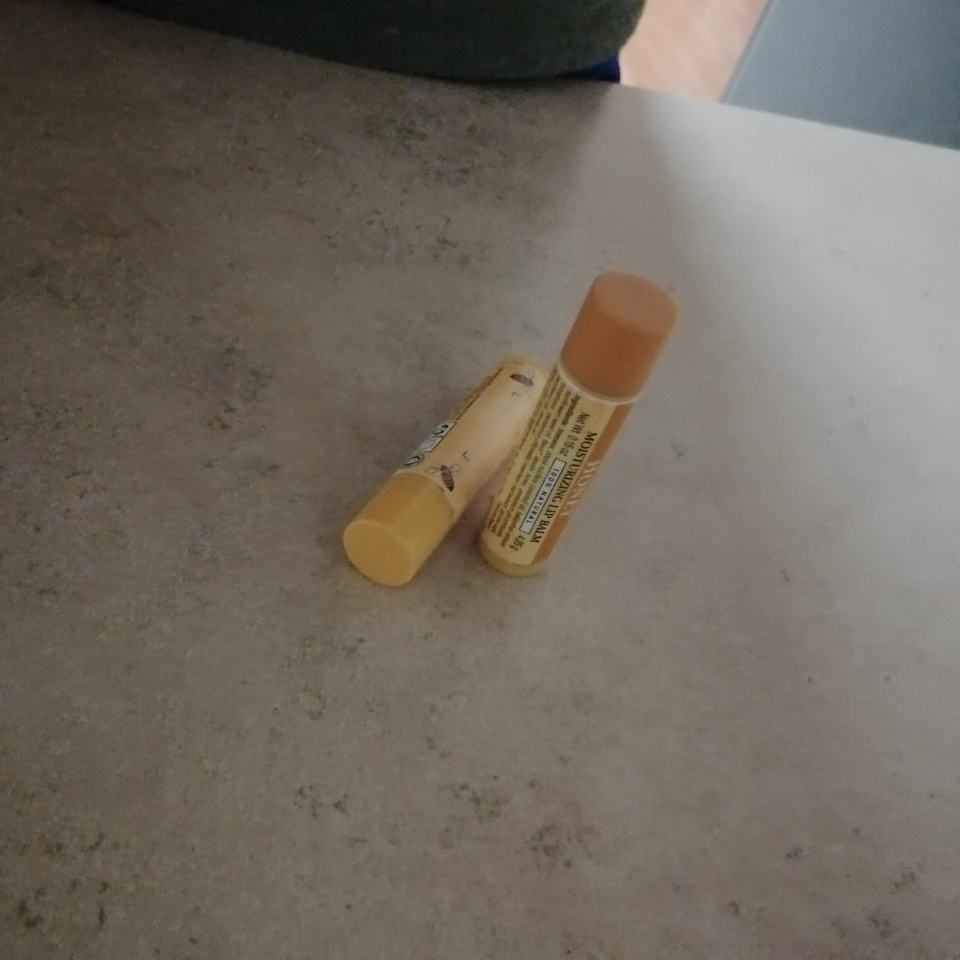chapstick: (476, 272, 677, 576), (343, 357, 551, 586)
